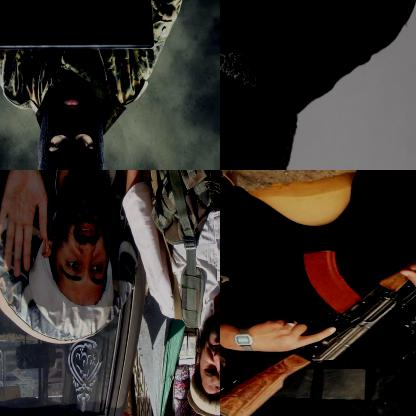rifle: (220, 170, 415, 415)
